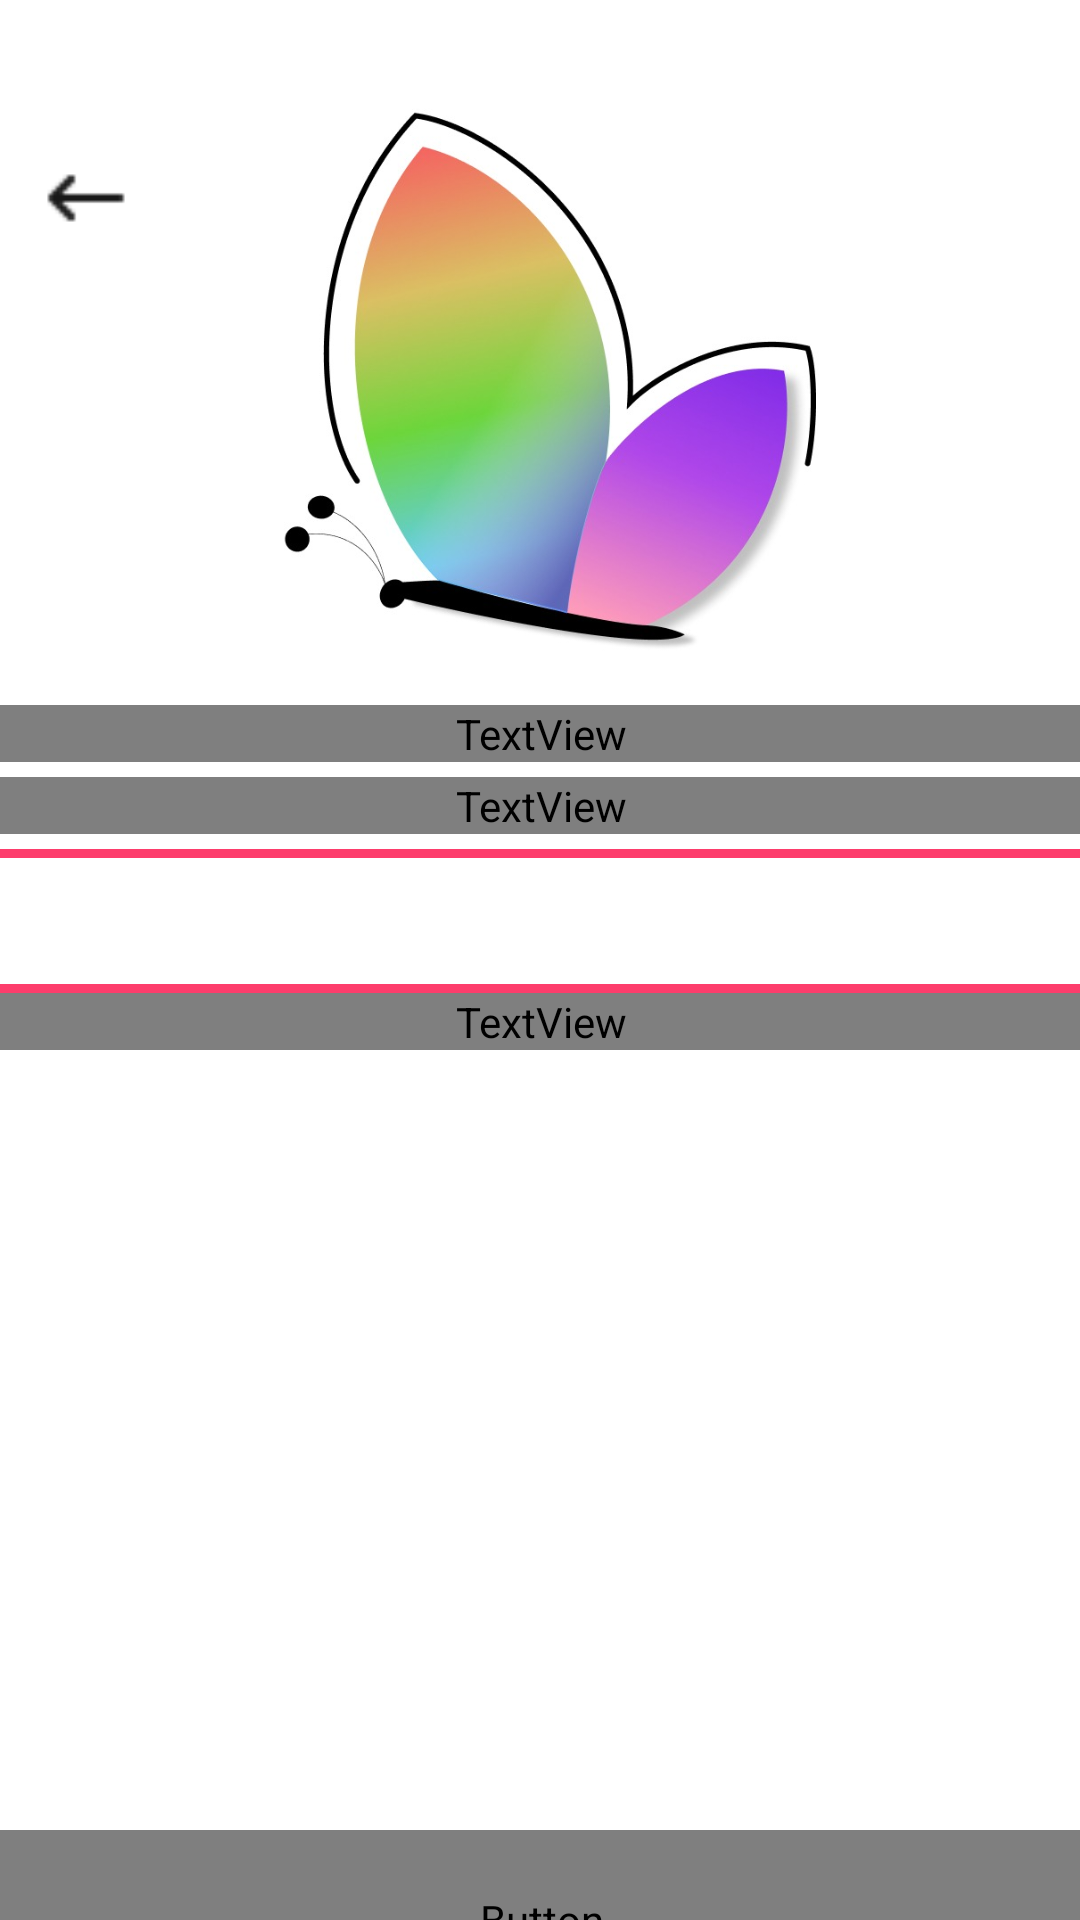

Screen size 1080*1920. Icon name, then its box in pixels as (x1, y1, x2, y2):
voltar seta: (47, 174, 125, 222)
